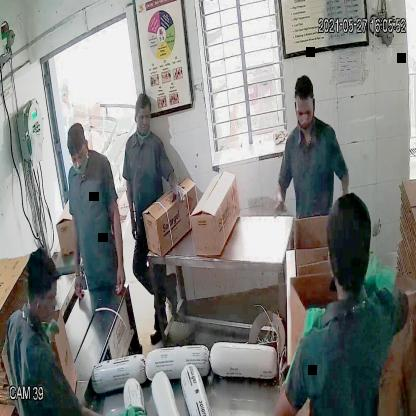no_goggles: (289, 99, 324, 125), (64, 147, 94, 170)
